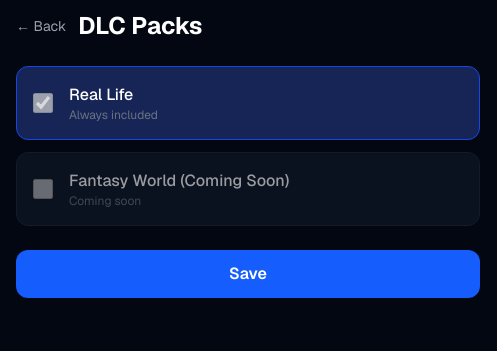
Test: StorePage › shows an error when saving fails
Expected: the checkbox labelled "Real Life Always included" is checked, top-left (33, 93), bottom-right (53, 113)
Click the button "Save".
click(248, 274)  # box top-left (16, 250), bottom-right (480, 298)
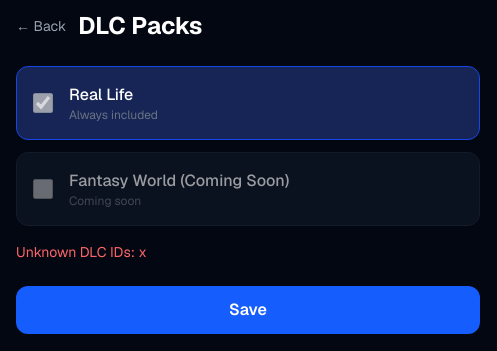
Expected: the text "Unknown DLC IDs: x" is shown, top-left (16, 243), bottom-right (147, 261)
